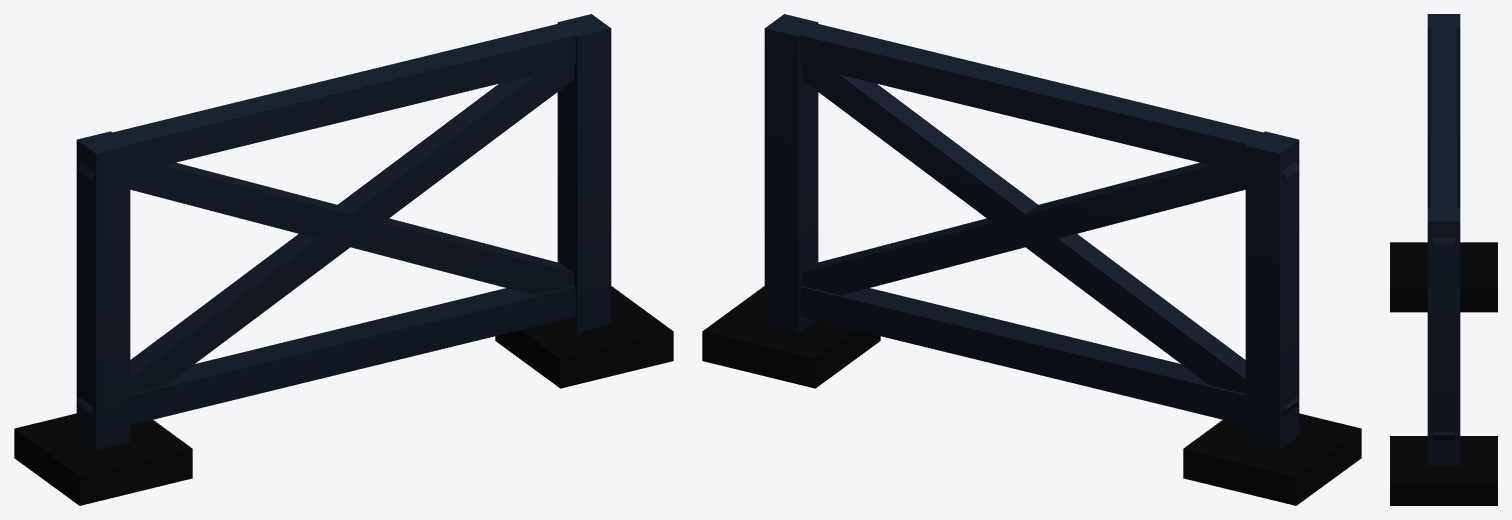
Rendered from barricade.glb.
3 renders of one model, left to right at view 1: azimuth 30°, elevation 25°; view 2: azimuth 150°, elevation 25°; view 3: azimuth 270°, elevation 25°, orthographic. The views are drawn at different scales.
Visible parts, largest first — view 1: barricade_root_body; view 2: barricade_root_body; view 3: barricade_root_body.
Part boxes in pixels (x1,y1,x2,y2): barricade_root_body: (14,14,673,505); barricade_root_body: (702,14,1361,505); barricade_root_body: (1390,14,1497,505).
Size of the model in its own units: 2.1 by 1.1 by 0.4.
